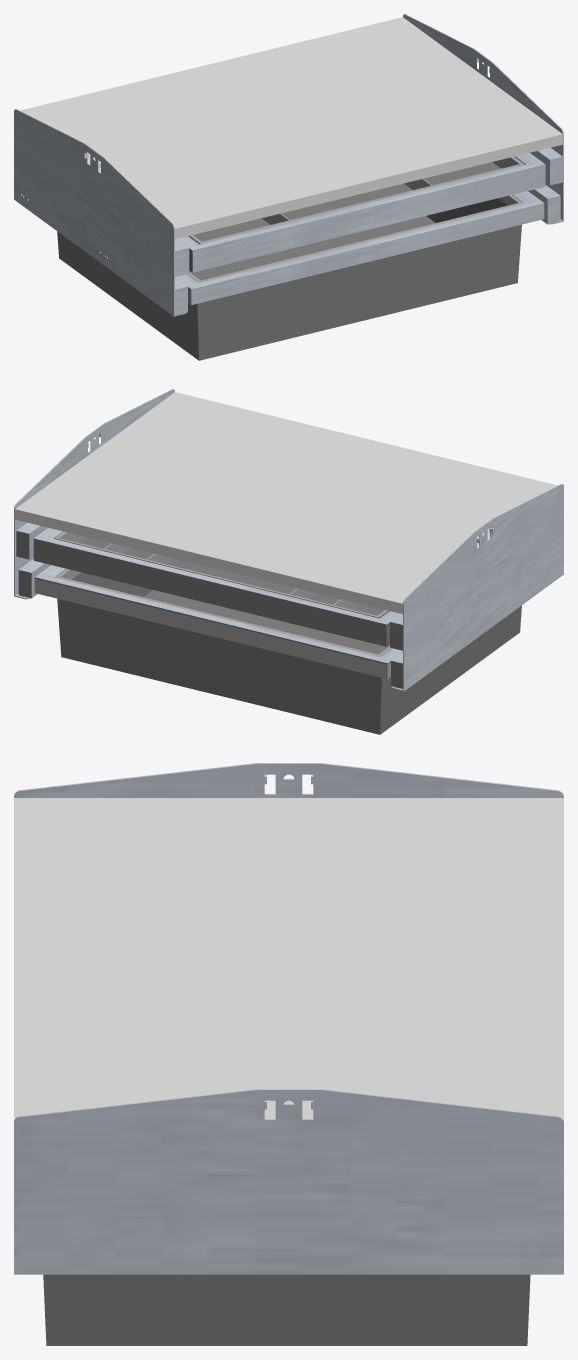
The model's file is JP-drawer-double-insert-drawer-leather-storage.glb.
3 views of the same model, one above another, from view 1: azimuth 30°, elevation 25°; view 2: azimuth 150°, elevation 25°; view 3: azimuth 270°, elevation 25° (orthographic). The views are drawn at different scales.
Parts seen in each view (by area): view 1: Geom3D (×9), Geom3D_; view 2: Geom3D (×10), Geom3D_; view 3: Geom3D_, Geom3D (×3).
Part boxes in pixels (x1,y1,x2,y2): Geom3D (×9): (14, 14, 563, 360); Geom3D_: (20, 17, 562, 239); Geom3D (×10): (14, 389, 563, 734); Geom3D_: (15, 392, 557, 613); Geom3D_: (14, 798, 563, 1121); Geom3D (×3): (14, 763, 563, 1345).
Bounding box in the file's own units: 0.7144 × 0.2875 × 0.5.
Materials: 3 (1 with a texture image).
